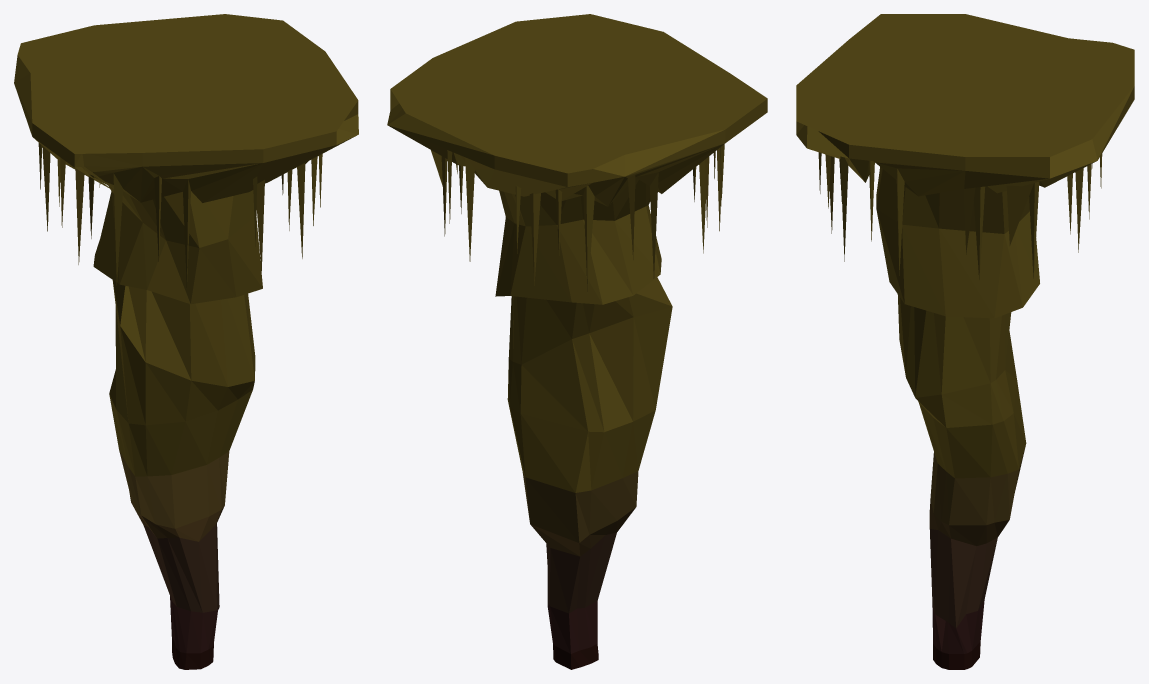
File: obj_platform_1_0.obj
The picture shows the model from 3 angles, left to right: view 1: azimuth 30°, elevation 25°; view 2: azimuth 150°, elevation 25°; view 3: azimuth 270°, elevation 25°; orthographic projection.
Size of the model in its own units: 4 by 7.45 by 4.
